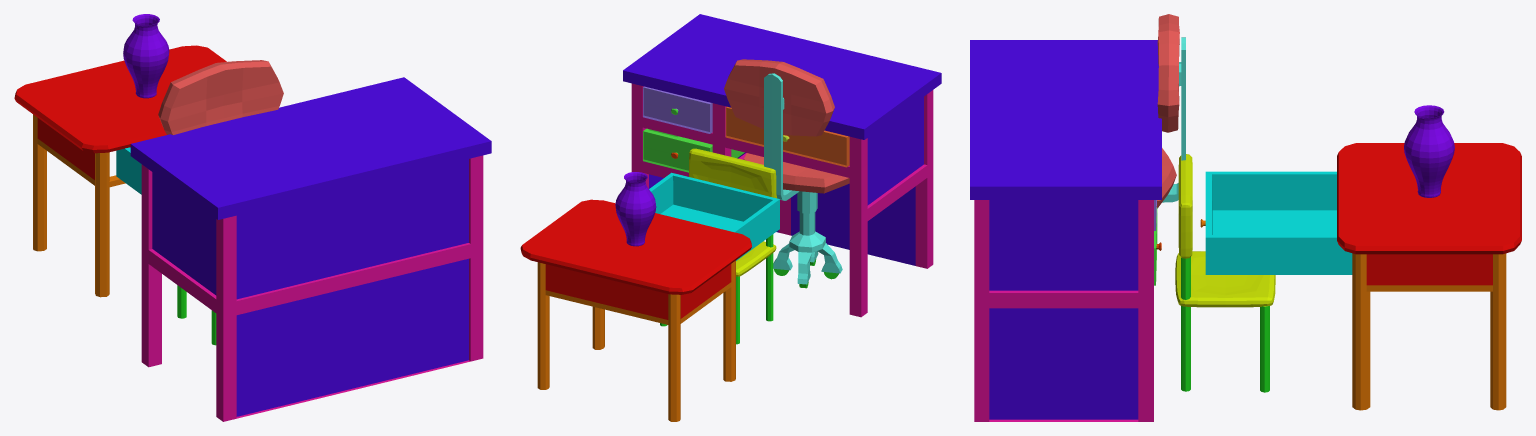
The model's file is GGJ-Teacher-Chair.fbx.
The picture shows the model from 3 angles, left to right: view 1: azimuth 30°, elevation 25°; view 2: azimuth 150°, elevation 25°; view 3: azimuth 270°, elevation 25°; orthographic projection. The views are drawn at different scales.
Parts seen in each view (by area): view 1: Teacher-Desk, StudentDesk, Cube.004, Vase, StudentDeskDrawer, StrudentChair; view 2: Teacher-Desk, StudentDesk, Cube.004, StudentDeskDrawer, StrudentChair, Teacher-Desk-Drawer-large, Teacher-Desk-Drawer-small-top, Vase, Teacher-Desk-Drawer-small-bottom; view 3: Teacher-Desk, StudentDesk, StudentDeskDrawer, StrudentChair, Cube.004, Vase.
Boxes of the visible parts, box(x1,y1,x2,y2) form: Teacher-Desk: box(130, 77, 491, 421); StudentDesk: box(14, 45, 226, 297); Cube.004: box(158, 60, 283, 135); Vase: box(123, 14, 169, 98); StudentDeskDrawer: box(116, 147, 141, 194); StrudentChair: box(177, 285, 216, 345); Teacher-Desk: box(623, 14, 941, 317); StudentDesk: box(520, 199, 751, 421); Cube.004: box(724, 59, 849, 288); StudentDeskDrawer: box(649, 172, 779, 260); StrudentChair: box(660, 148, 776, 344); Teacher-Desk-Drawer-large: box(725, 106, 849, 167); Teacher-Desk-Drawer-small-top: box(643, 86, 712, 133); Vase: box(615, 172, 656, 246); Teacher-Desk-Drawer-small-bottom: box(643, 128, 744, 172); Teacher-Desk: box(970, 40, 1161, 421); StudentDesk: box(1337, 143, 1521, 410); StudentDeskDrawer: box(1200, 171, 1352, 274); StrudentChair: box(1175, 154, 1275, 392); Cube.004: box(1156, 14, 1185, 208); Vase: box(1404, 105, 1454, 197).
Size of the model in its own units: 386 by 386 by 614.
